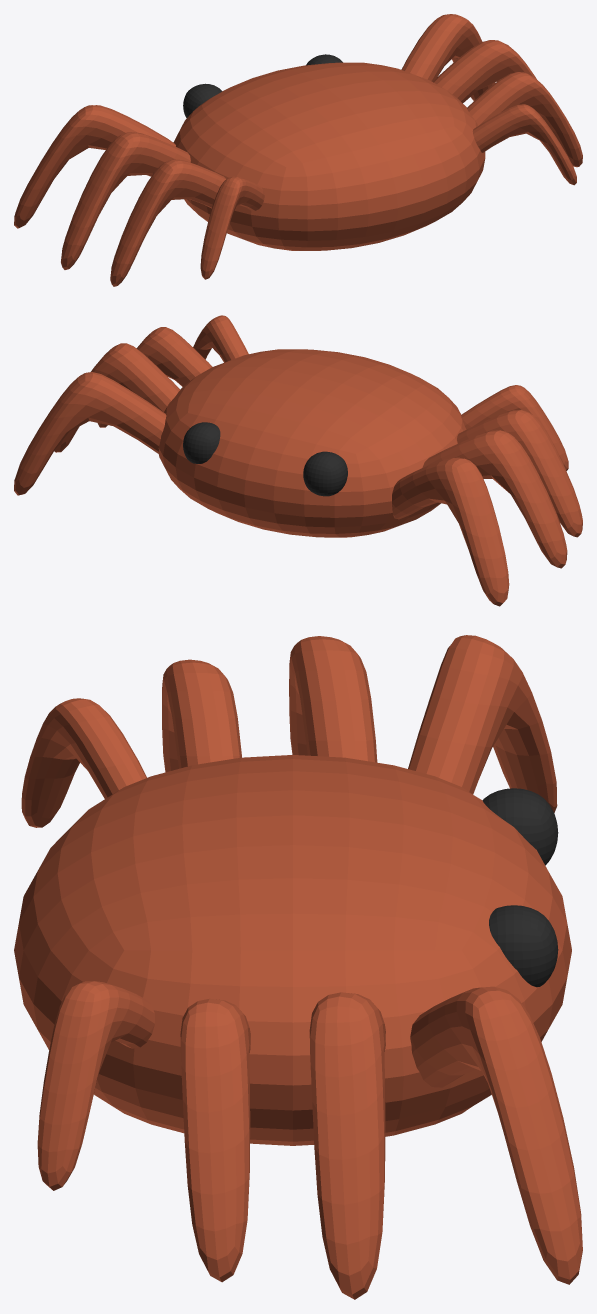
Rendered from carangueijo.fbx.
The picture shows the model from 3 angles, top to bottom: view 1: azimuth 30°, elevation 25°; view 2: azimuth 150°, elevation 25°; view 3: azimuth 270°, elevation 25°; orthographic projection. The views are drawn at different scales.
Visible parts, largest first — view 1: Cube.001; view 2: Cube.001; view 3: Cube.001.
Part boxes in pixels (x1,y1,x2,y2): Cube.001: [14, 14, 582, 286]; Cube.001: [14, 315, 582, 606]; Cube.001: [14, 635, 582, 1299].
Bounding box in the file's own units: 419 × 108 × 205.
